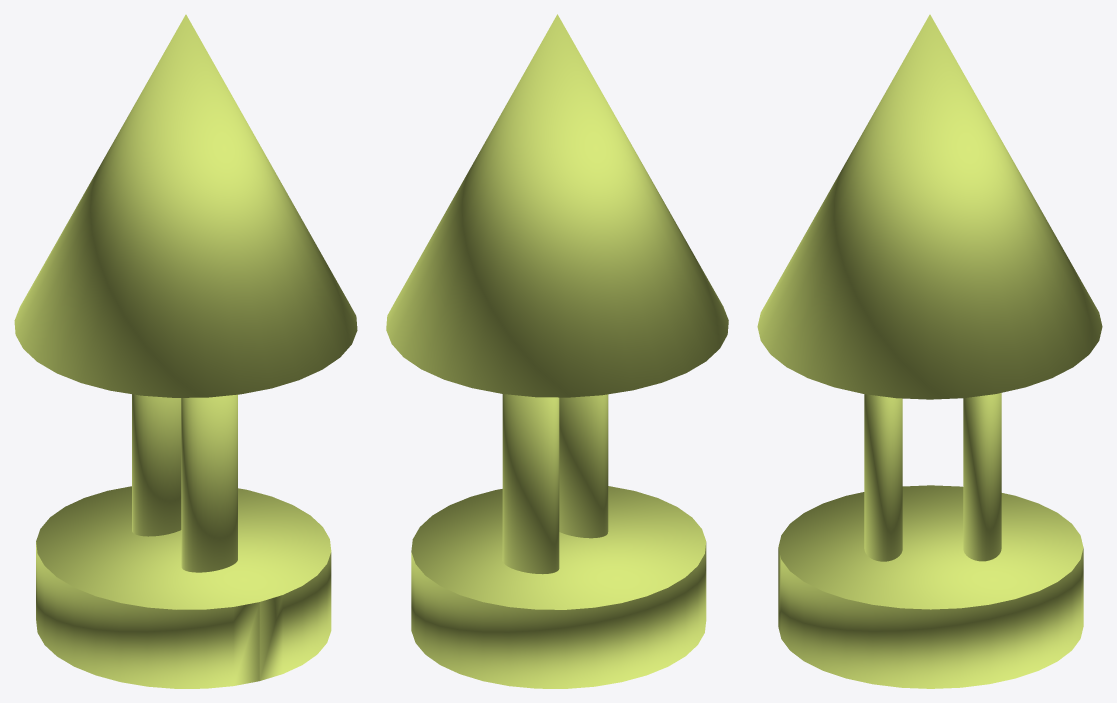
3 renders of one model, left to right at view 1: azimuth 30°, elevation 25°; view 2: azimuth 150°, elevation 25°; view 3: azimuth 270°, elevation 25°, orthographic.
Parts seen in each view (by area): view 1: Cone; view 2: Cone; view 3: Cone.
Boxes of the visible parts, x1,y1,x2,y2 form: Cone: (14,14,357,688); Cone: (386,14,728,688); Cone: (757,14,1102,688).
Bounding box in the file's own units: 2 × 3.93 × 2.
